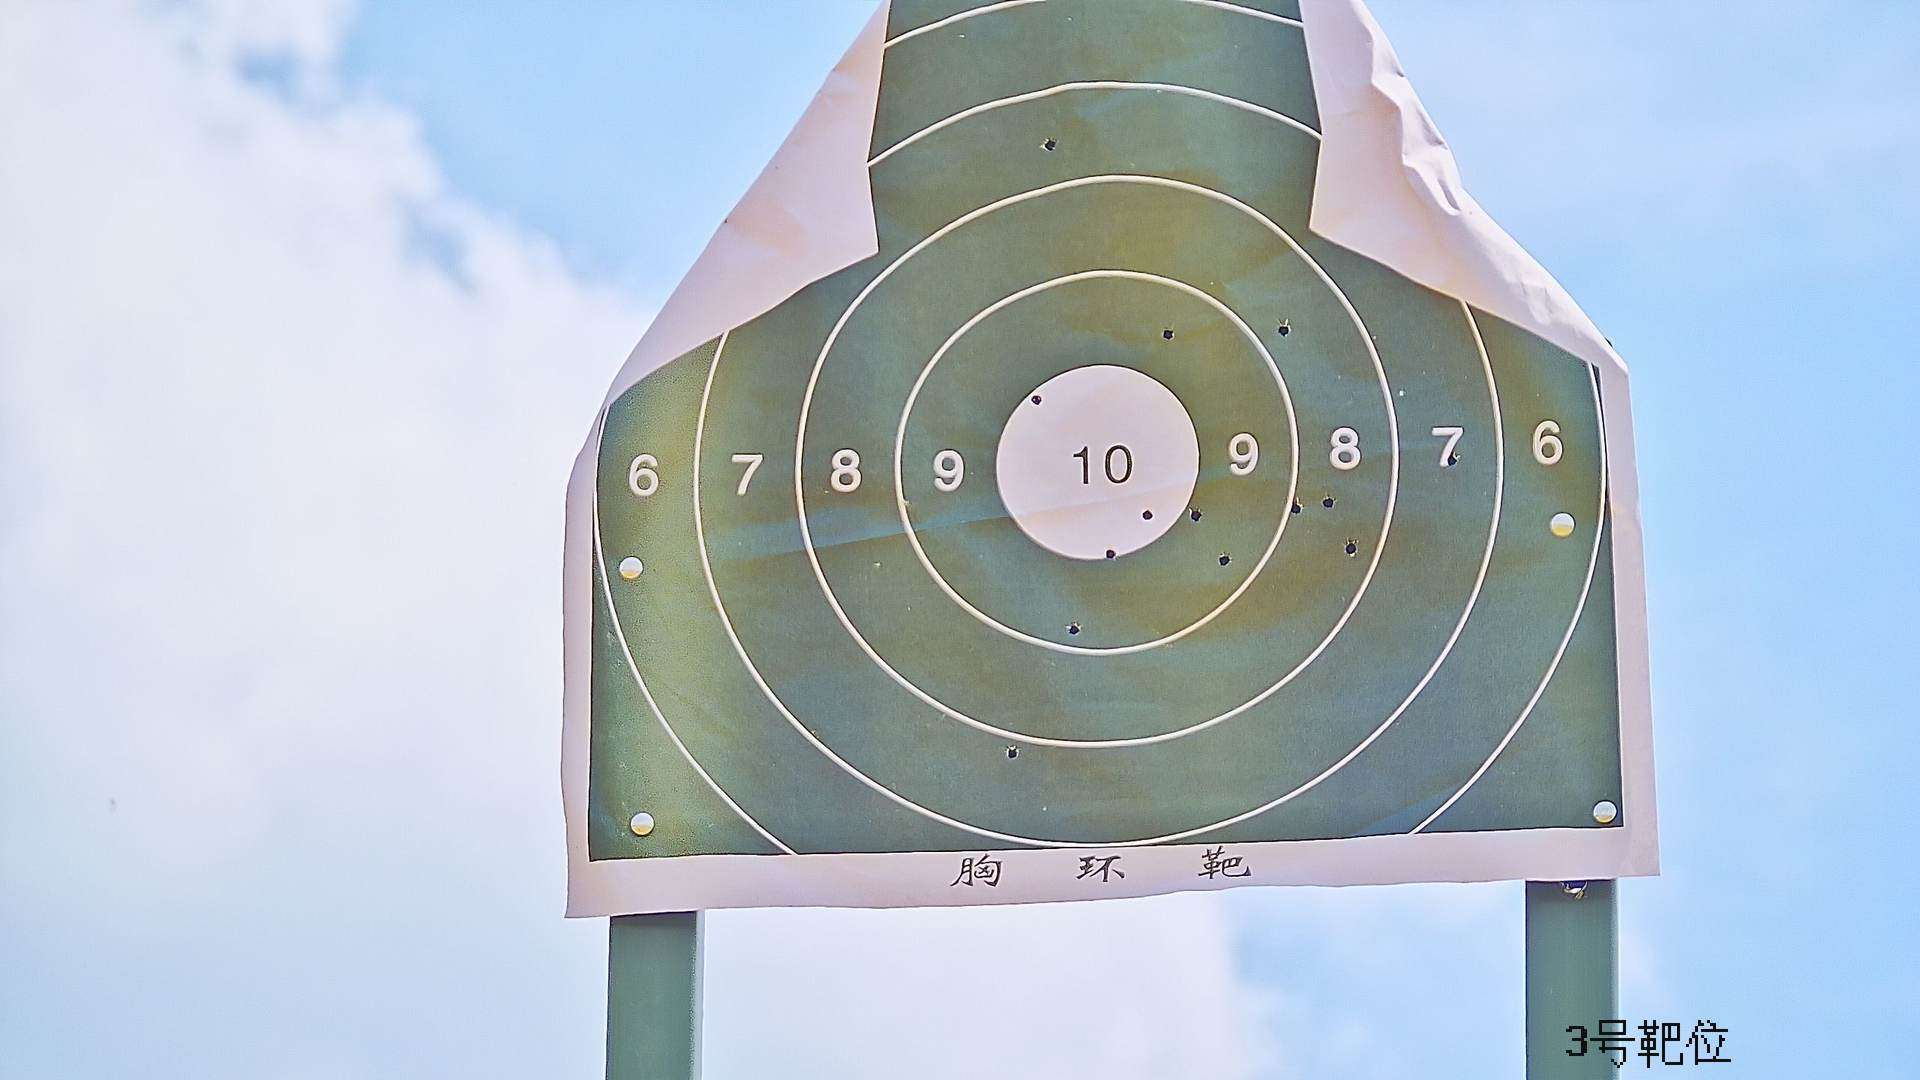hole: (1159, 326, 1176, 342), (1288, 497, 1302, 517), (1040, 135, 1056, 150), (1217, 551, 1232, 568), (1068, 622, 1083, 638), (1104, 546, 1118, 562), (1445, 452, 1461, 467), (1188, 506, 1201, 524), (1345, 538, 1357, 556), (1004, 745, 1017, 760), (1323, 495, 1335, 510), (1029, 393, 1042, 405), (1142, 506, 1154, 520), (1280, 324, 1291, 338)
kernel: (1092, 467, 1096, 472)
target: (585, 5, 1623, 866)
ten: (988, 363, 1201, 562)
